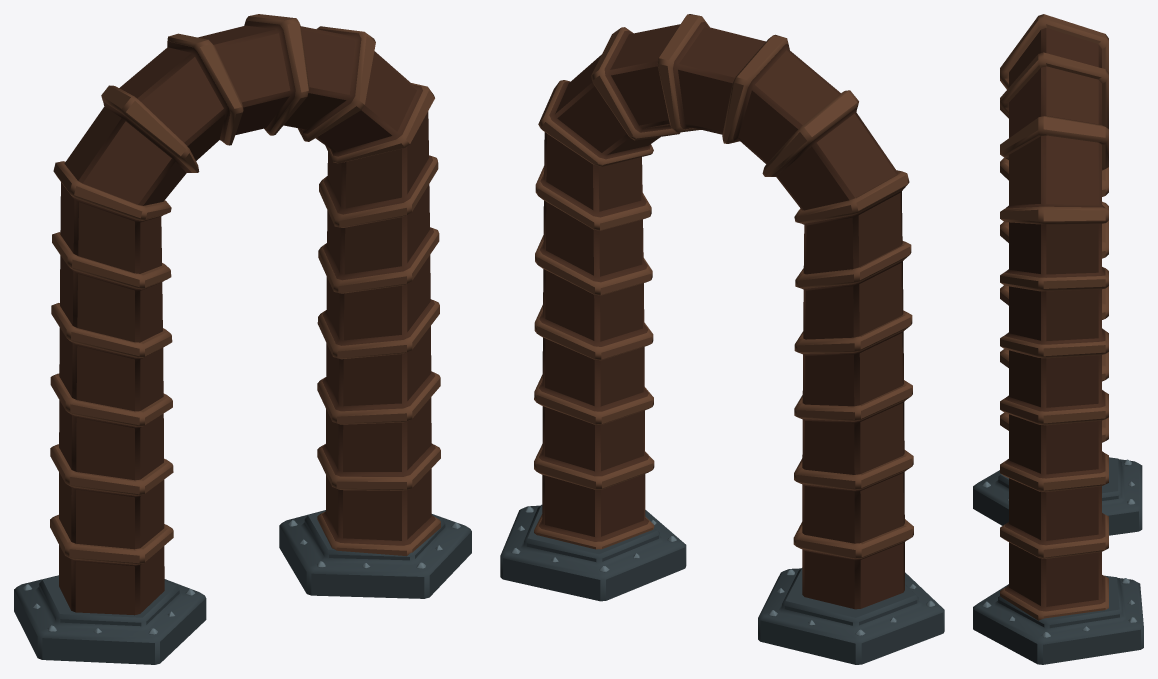
File: pipe_Uturn.fbx
3 renders of one model, left to right at view 1: azimuth 30°, elevation 25°; view 2: azimuth 150°, elevation 25°; view 3: azimuth 270°, elevation 25°, orthographic. The views are drawn at different scales.
Visible parts, largest first — view 1: curve gen v2.008; view 2: curve gen v2.008; view 3: curve gen v2.008.
Part boxes in pixels (x1,y1,x2,y2): curve gen v2.008: [14, 14, 471, 664]; curve gen v2.008: [500, 14, 944, 664]; curve gen v2.008: [973, 14, 1143, 664].
Size of the model in its own units: 4.88 by 6.18 by 1.81.
